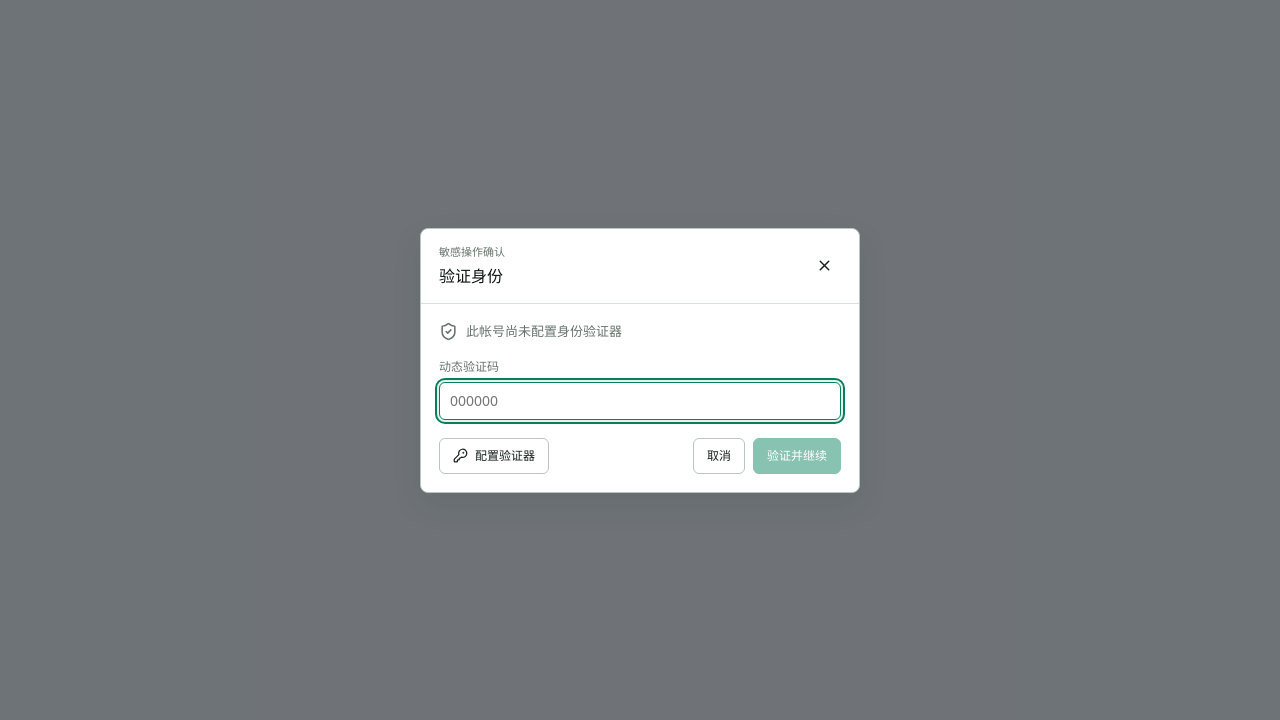
Test: MfaDialog › starts TOTP enrollment and renders its QR code
Click the button "配置验证器" at (494,456), box left=439, top=438, right=549, bottom=474
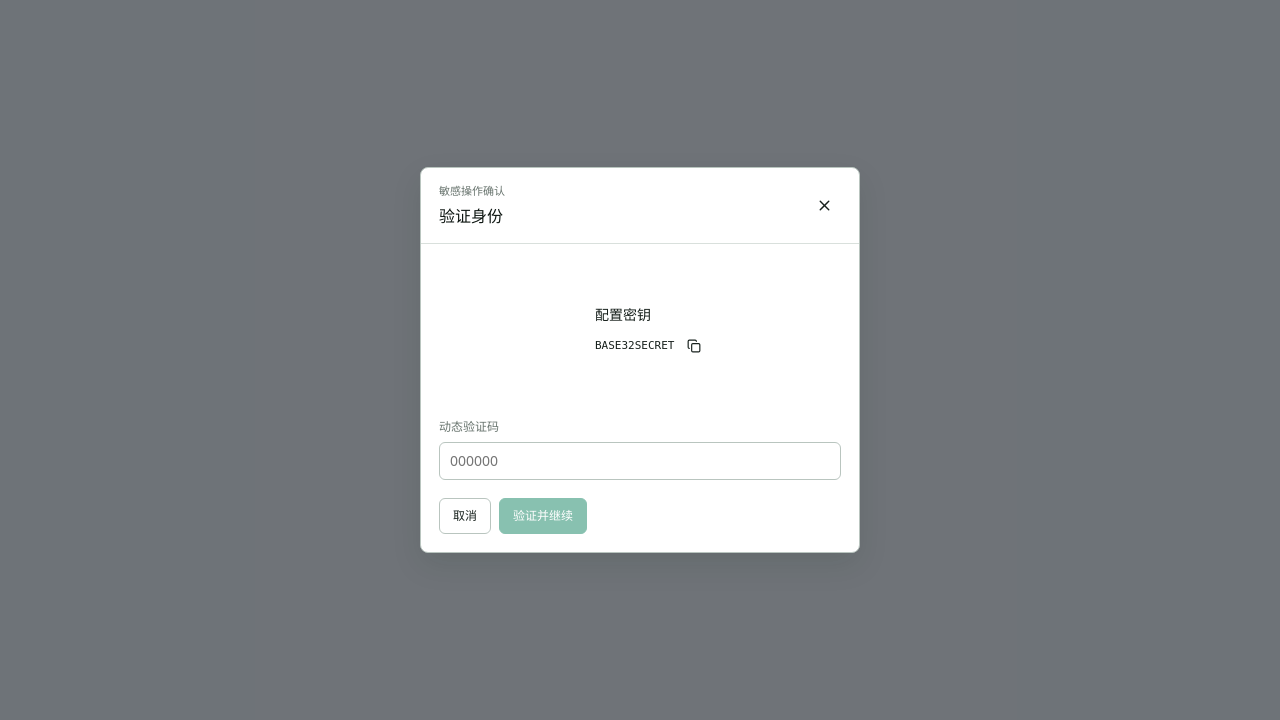
Expected: the text "BASE32SECRET" is shown, left=595, top=338, right=674, bottom=354
